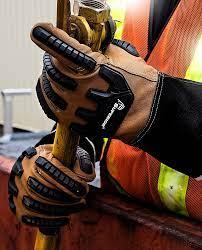gloves: (31, 23, 202, 177), (7, 144, 95, 230)
